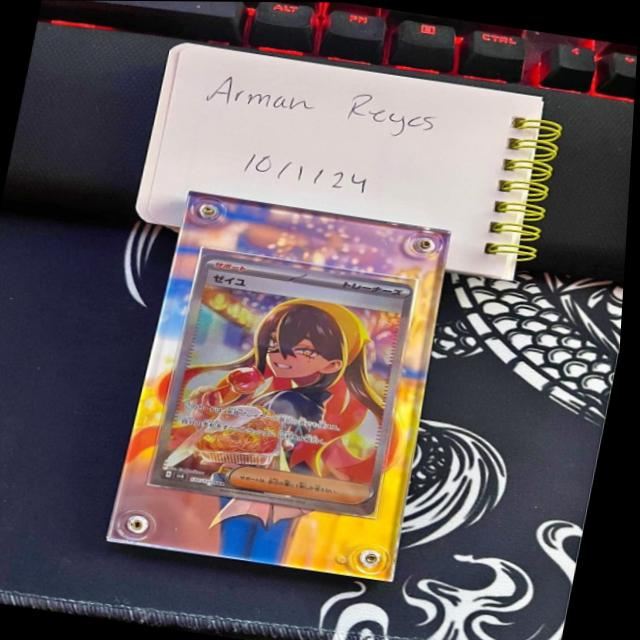card: (156, 252, 419, 516)
